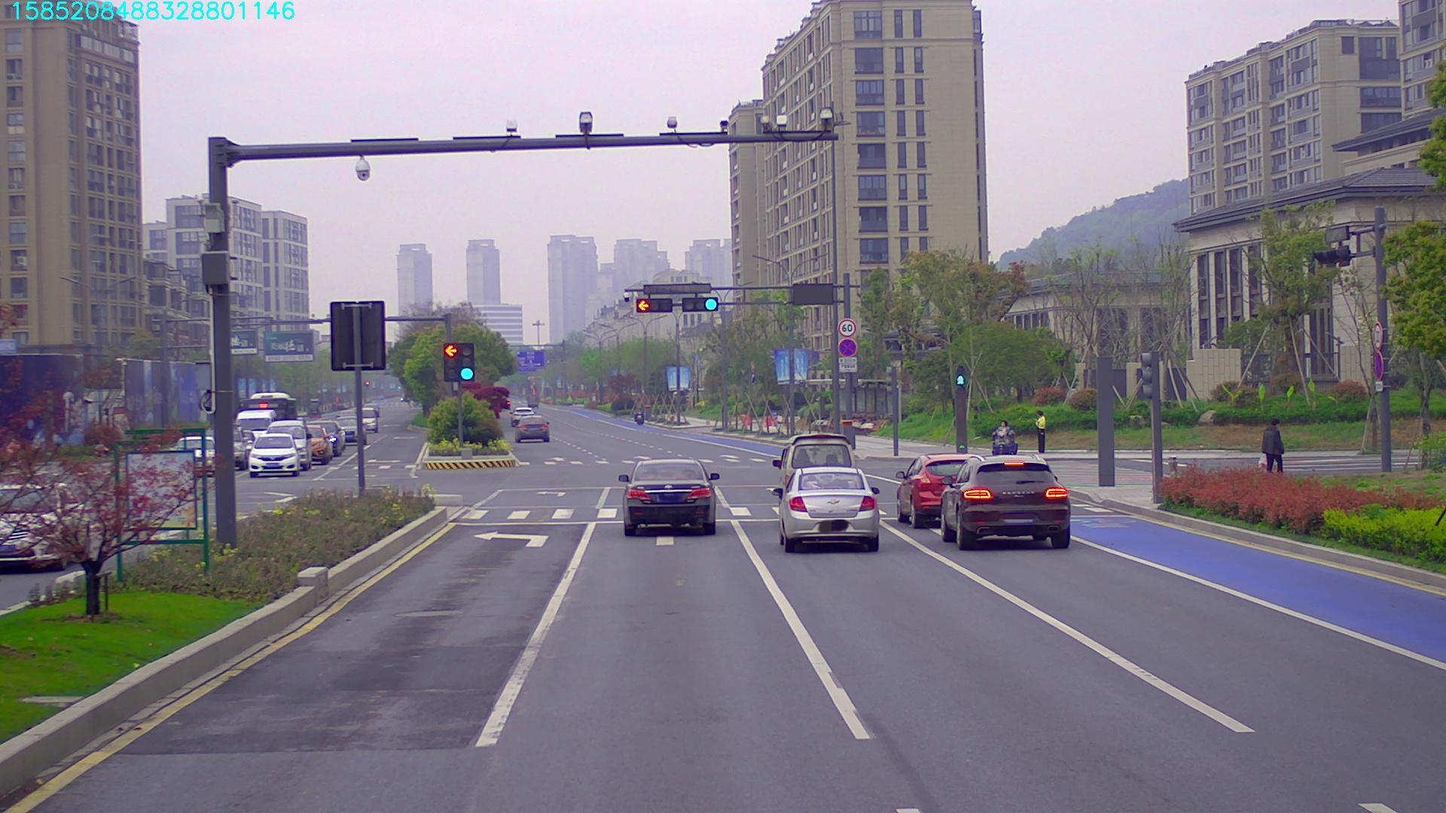green: (682, 297, 715, 315)
red: (633, 300, 670, 311)
